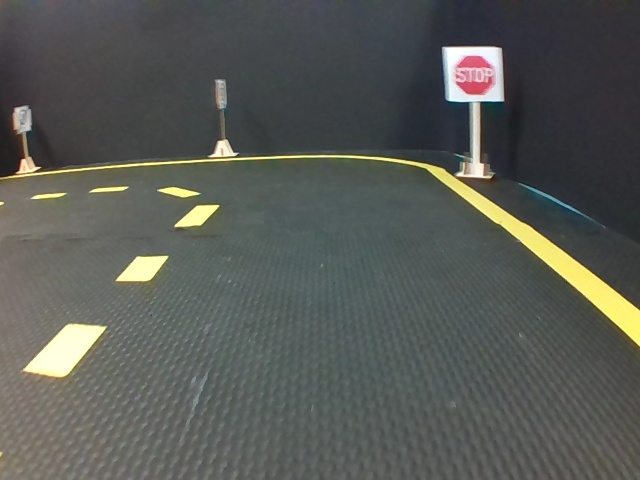30: (216, 80, 226, 107)
no30: (16, 107, 29, 131)
stop: (442, 45, 503, 103)
